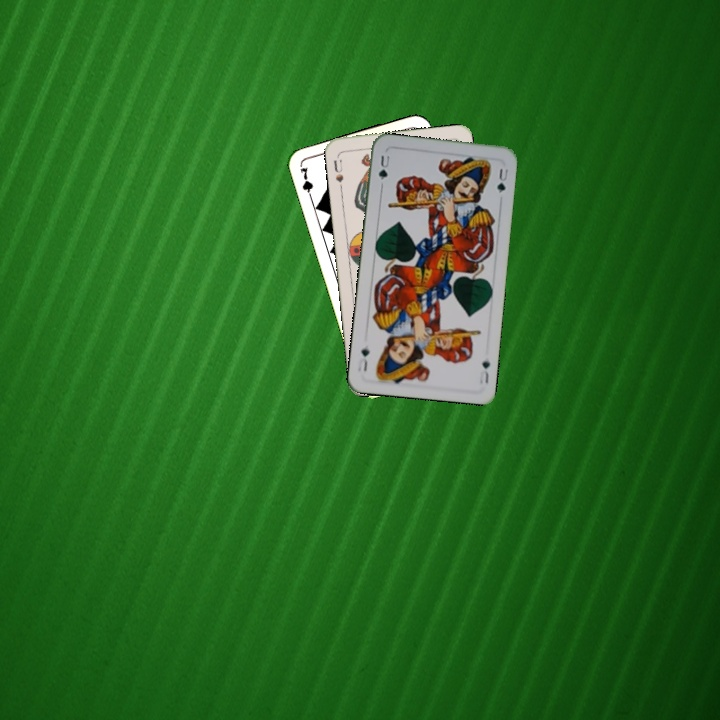G7: (296, 163, 316, 203)
GU: (374, 151, 392, 182), (475, 356, 493, 387)
SU: (329, 155, 346, 192)
